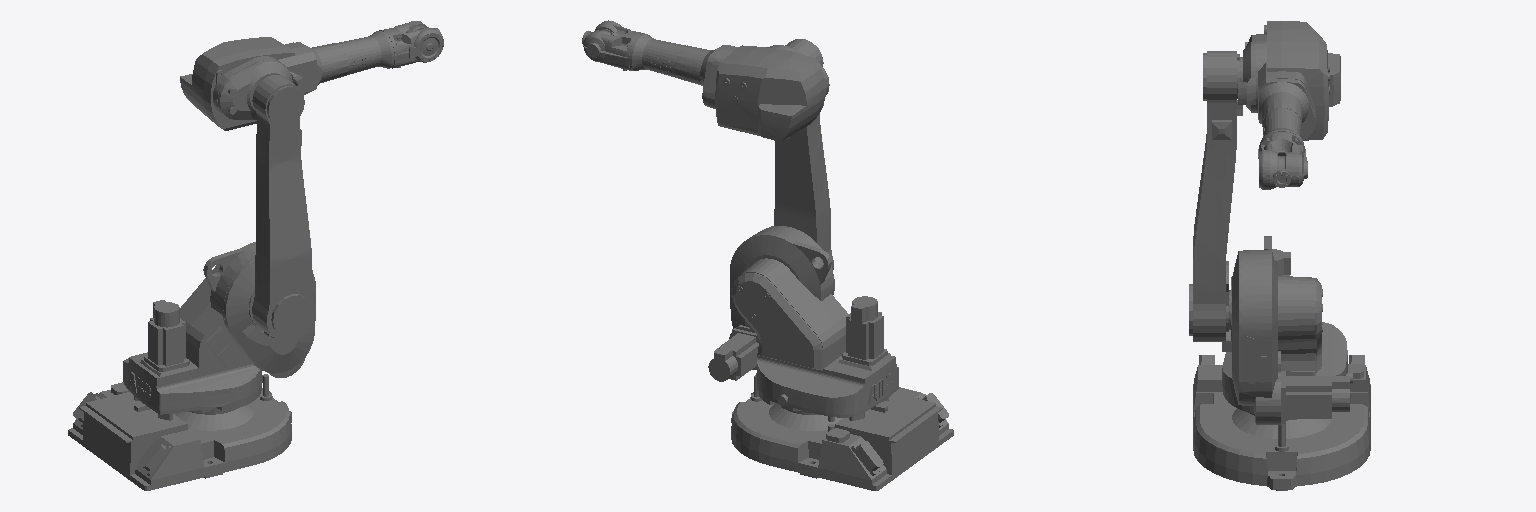
URDF robot description (abb_irb1600x145):
<?xml version="1.0" ?>
<!-- =================================================================================== -->
<!-- |    This document was autogenerated by xacro from irb1600x145.xacro              | -->
<!-- |    EDITING THIS FILE BY HAND IS NOT RECOMMENDED                                 | -->
<!-- =================================================================================== -->
<robot name="abb_irb1600x145" xmlns:xacro="http://www.ros.org/wiki/xacro">
  <!-- links -->
  <link name="base_link">
    <visual>
      <origin rpy="0 0 0" xyz="0 0 0"/>
      <geometry>
        <mesh filename="package://abb_irb1600_support/meshes/irb1600x145/visual/base_link.dae"/>
      </geometry>
      <material name="gray">
        <color rgba="0.5 0.5 0.5 1.0"/>
      </material>
    </visual>
    <collision>
      <origin rpy="0 0 0" xyz="0 0 0"/>
      <geometry>
        <mesh filename="package://abb_irb1600_support/meshes/irb1600x145/collision/base_link.stl"/>
      </geometry>
    </collision>
  </link>
  <link name="link_1">
    <visual>
      <origin rpy="0 0 0" xyz="0 0 0"/>
      <geometry>
        <mesh filename="package://abb_irb1600_support/meshes/irb1600x145/visual/link_1.dae"/>
      </geometry>
      <material name="gray">
        <color rgba="0.5 0.5 0.5 1.0"/>
      </material>
    </visual>
    <collision>
      <origin rpy="0 0 0" xyz="0 0 0"/>
      <geometry>
        <mesh filename="package://abb_irb1600_support/meshes/irb1600x145/collision/link_1.stl"/>
      </geometry>
    </collision>
  </link>
  <link name="link_2">
    <visual>
      <origin rpy="0 0 0" xyz="0 0 0"/>
      <geometry>
        <mesh filename="package://abb_irb1600_support/meshes/irb1600x145/visual/link_2.dae"/>
      </geometry>
      <material name="gray">
        <color rgba="0.5 0.5 0.5 1.0"/>
      </material>
    </visual>
    <collision>
      <origin rpy="0 0 0" xyz="0 0 0"/>
      <geometry>
        <mesh filename="package://abb_irb1600_support/meshes/irb1600x145/collision/link_2.stl"/>
      </geometry>
    </collision>
  </link>
  <link name="link_3">
    <visual>
      <origin rpy="0 0 0" xyz="0 0 0"/>
      <geometry>
        <mesh filename="package://abb_irb1600_support/meshes/irb1600x145/visual/link_3.dae"/>
      </geometry>
      <material name="gray">
        <color rgba="0.5 0.5 0.5 1.0"/>
      </material>
    </visual>
    <collision>
      <origin rpy="0 0 0" xyz="0 0 0"/>
      <geometry>
        <mesh filename="package://abb_irb1600_support/meshes/irb1600x145/collision/link_3.stl"/>
      </geometry>
    </collision>
  </link>
  <link name="link_4">
    <visual>
      <origin rpy="0 0 0" xyz="0 0 0"/>
      <geometry>
        <mesh filename="package://abb_irb1600_support/meshes/irb1600x145/visual/link_4.dae"/>
      </geometry>
      <material name="gray">
        <color rgba="0.5 0.5 0.5 1.0"/>
      </material>
    </visual>
    <collision>
      <origin rpy="0 0 0" xyz="0 0 0"/>
      <geometry>
        <mesh filename="package://abb_irb1600_support/meshes/irb1600x145/collision/link_4.stl"/>
      </geometry>
    </collision>
  </link>
  <link name="link_5">
    <visual>
      <origin rpy="0 0 0" xyz="0 0 0"/>
      <geometry>
        <mesh filename="package://abb_irb1600_support/meshes/irb1600x145/visual/link_5.dae"/>
      </geometry>
      <material name="gray">
        <color rgba="0.5 0.5 0.5 1.0"/>
      </material>
    </visual>
    <collision>
      <origin rpy="0 0 0" xyz="0 0 0"/>
      <geometry>
        <mesh filename="package://abb_irb1600_support/meshes/irb1600x145/collision/link_5.stl"/>
      </geometry>
    </collision>
  </link>
  <link name="link_6">
    <visual>
      <origin rpy="0 0 0" xyz="0 0 0"/>
      <geometry>
        <mesh filename="package://abb_irb1600_support/meshes/irb1600x145/visual/link_6.dae"/>
      </geometry>
      <material name="gray">
        <color rgba="0.5 0.5 0.5 1.0"/>
      </material>
    </visual>
    <collision>
      <origin rpy="0 0 0" xyz="0 0 0"/>
      <geometry>
        <mesh filename="package://abb_irb1600_support/meshes/irb1600x145/collision/link_6.stl"/>
      </geometry>
    </collision>
  </link>
  <link name="tool0"/>
  <!-- joints -->
  <joint name="joint_1" type="revolute">
    <origin rpy="0 0 0" xyz="0 0 0.1245"/>
    <parent link="base_link"/>
    <child link="link_1"/>
    <axis xyz="0 0 1"/>
    <limit effort="0.0" lower="-3.1415926536" upper="3.1415926536" velocity="3.1415926536"/>
  </joint>
  <joint name="joint_2" type="revolute">
    <origin rpy="0 0 0" xyz="0.150 -0.138 0.362"/>
    <parent link="link_1"/>
    <child link="link_2"/>
    <axis xyz="0 1 0"/>
    <limit effort="0.0" lower="-1.5707963268" upper="2.617993878" velocity="3.1415926536"/>
  </joint>
  <joint name="joint_3" type="revolute">
    <origin rpy="0 0 0" xyz="0 0.031 0.7"/>
    <parent link="link_2"/>
    <child link="link_3"/>
    <axis xyz="0 1 0"/>
    <limit effort="0.0" lower="-4.2760566674" upper="1.1344640138" velocity="3.2288591162"/>
  </joint>
  <joint name="joint_4" type="revolute">
    <origin rpy="0 0 0" xyz="0.314 0.107 0"/>
    <parent link="link_3"/>
    <child link="link_4"/>
    <axis xyz="1 0 0"/>
    <limit effort="0.0" lower="-3.490658504" upper="3.490658504" velocity="6.7195176202"/>
  </joint>
  <joint name="joint_5" type="revolute">
    <origin rpy="0 0 0" xyz="0.285 -0.0155 0"/>
    <parent link="link_4"/>
    <child link="link_5"/>
    <axis xyz="0 1 0"/>
    <limit effort="0.0" lower="-2.0071286398" upper="2.0071286398" velocity="6.981317008"/>
  </joint>
  <joint name="joint_6" type="revolute">
    <origin rpy="0 0 0" xyz="0.065 0.0155 0"/>
    <parent link="link_5"/>
    <child link="link_6"/>
    <axis xyz="1 0 0"/>
    <limit effort="0.0" lower="-6.981317008" upper="6.981317008" velocity="8.0285145592"/>
  </joint>
  <joint name="joint_6-tool0" type="fixed">
    <origin rpy="0 1.5707963268 0" xyz="0 0 0"/>
    <parent link="link_6"/>
    <child link="tool0"/>
  </joint>
  <!-- ROS base_link to ABB World Coordinates transform -->
  <link name="base"/>
  <joint name="base_link-base" type="fixed">
    <origin rpy="0 0 0" xyz="0 0 0"/>
    <parent link="base_link"/>
    <child link="base"/>
  </joint>
</robot>

--- Render facts (derived) ---
The picture shows the robot from 3 angles, left to right: view 1: azimuth 30°, elevation 25°; view 2: azimuth 150°, elevation 25°; view 3: azimuth 270°, elevation 25°; orthographic projection.
Robot: abb_irb1600x145 — 9 links, 8 joints (6 revolute, 2 fixed); root link base_link; default pose: every joint at zero.
Visible links, largest first — view 1: link_1, base_link, link_2, link_3, link_4; view 2: link_1, base_link, link_3, link_2, link_4; view 3: link_1, base_link, link_2, link_3, link_4.
Link boxes in pixels (left/top/right/bottom): link_1: left=123, top=242, right=315, bottom=420; base_link: left=68, top=374, right=291, bottom=490; link_2: left=252, top=75, right=314, bottom=340; link_3: left=180, top=37, right=348, bottom=130; link_4: left=339, top=21, right=443, bottom=75; link_1: left=708, top=226, right=898, bottom=421; base_link: left=731, top=375, right=953, bottom=490; link_3: left=675, top=45, right=829, bottom=141; link_2: left=774, top=39, right=833, bottom=269; link_4: left=583, top=20, right=685, bottom=77; link_1: left=1222, top=236, right=1352, bottom=424; base_link: left=1193, top=355, right=1370, bottom=490; link_2: left=1189, top=51, right=1242, bottom=341; link_3: left=1238, top=21, right=1340, bottom=140; link_4: left=1258, top=108, right=1307, bottom=189.
Size in the robot's own frame: 1.2 by 0.4943 by 1.29 metres.
7 mesh visuals loaded from 7 distinct referenced files (7 Collada DAE).